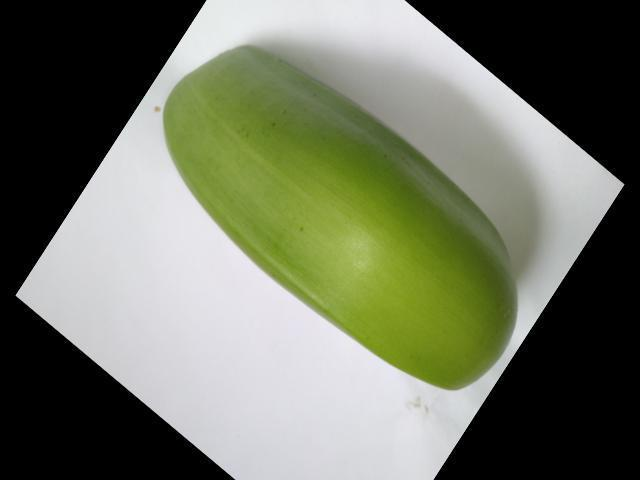freshunripe: (156, 33, 542, 410)
